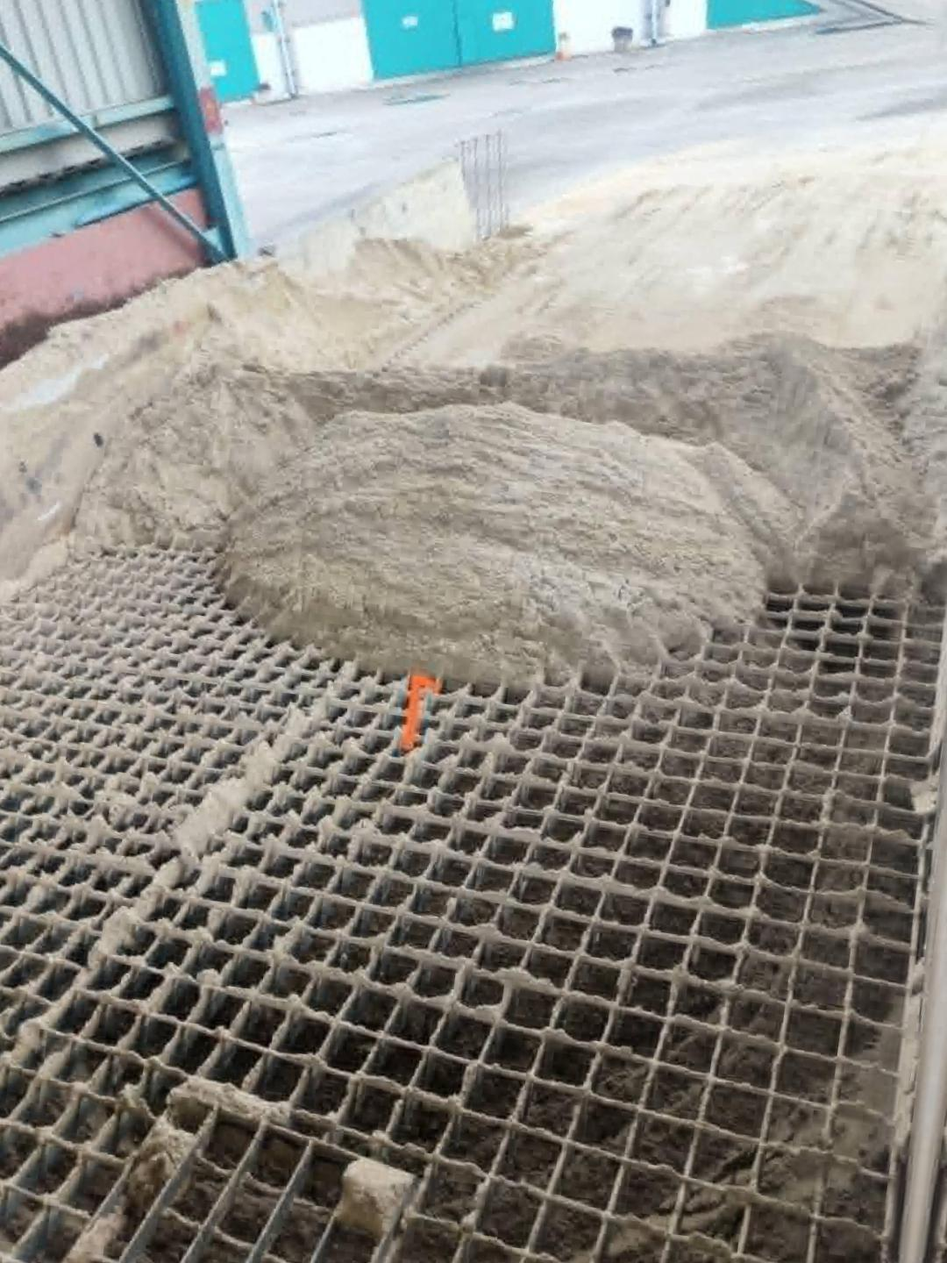gravel: (0, 264, 947, 684), (97, 698, 325, 958), (339, 1163, 412, 1236)
